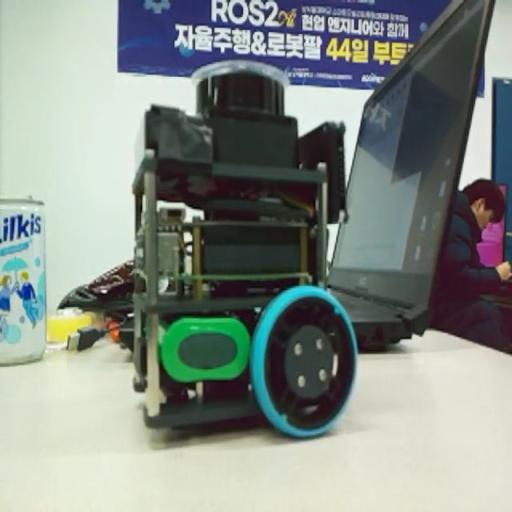pinky_63: (126, 54, 359, 446)
